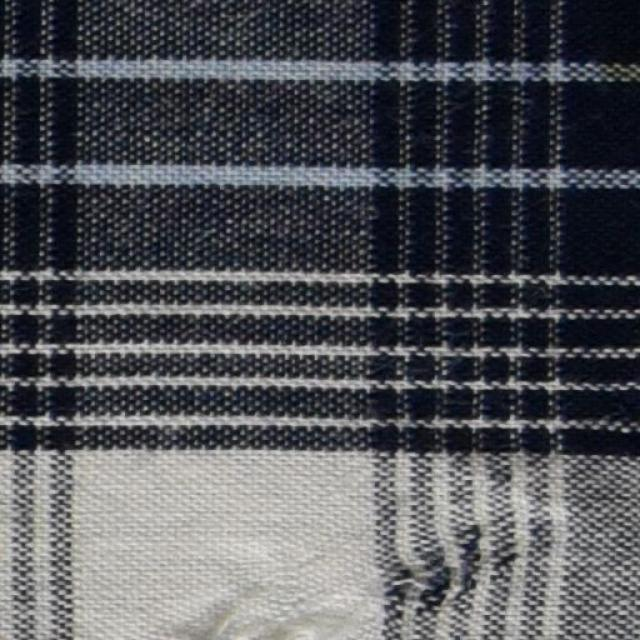Snag: (374, 525, 484, 619)
